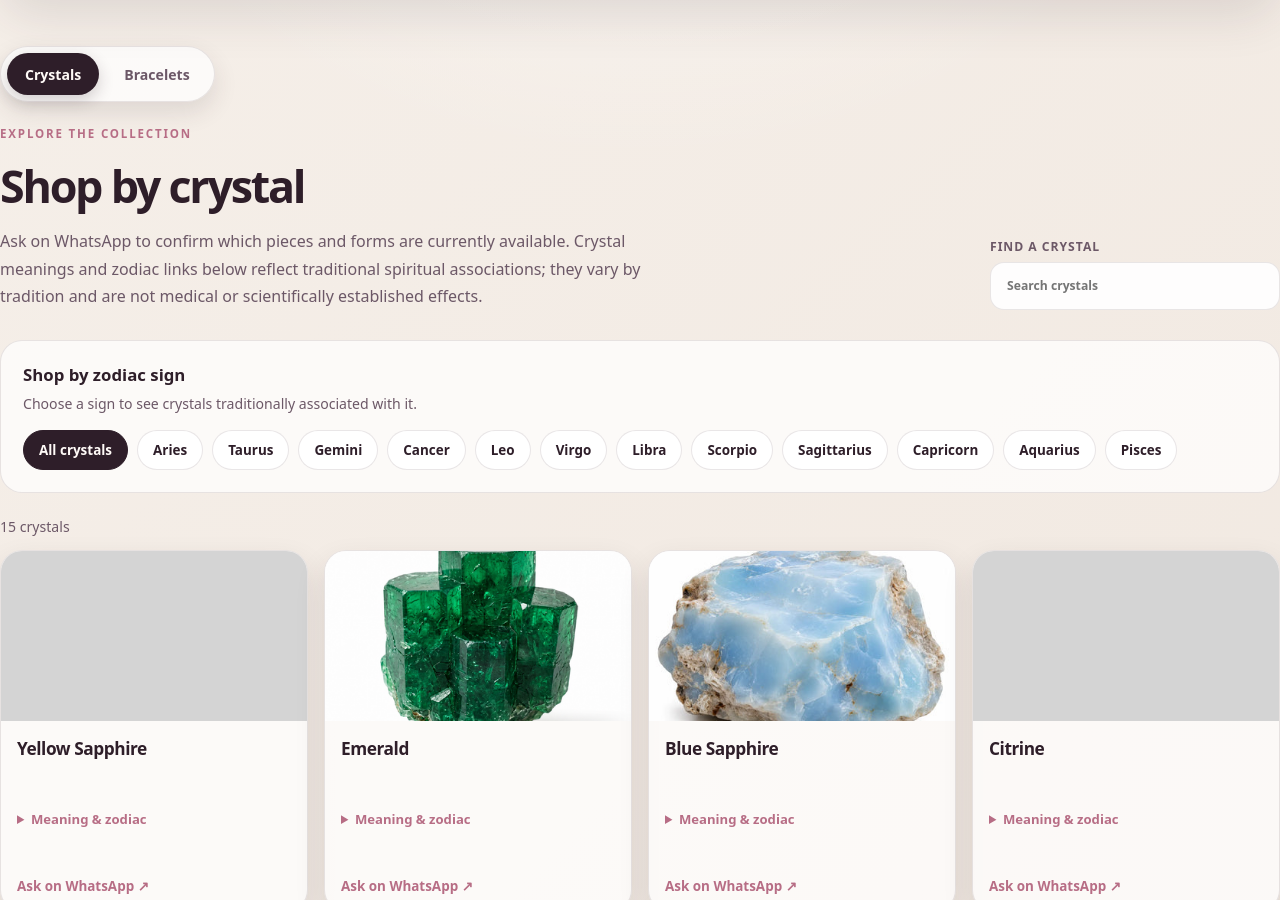
Test: filters crystals by zodiac sign and includes crystals linked to all signs
Later steps or results of the test are not shown.
(page scrolled)
Check: the button "Aries" is shown, box [137,430,203,470]
Check: the button "Taurus" is shown, box [212,430,289,470]
Click the button "Pisces" at (1141, 450), box [1105,430,1178,470]
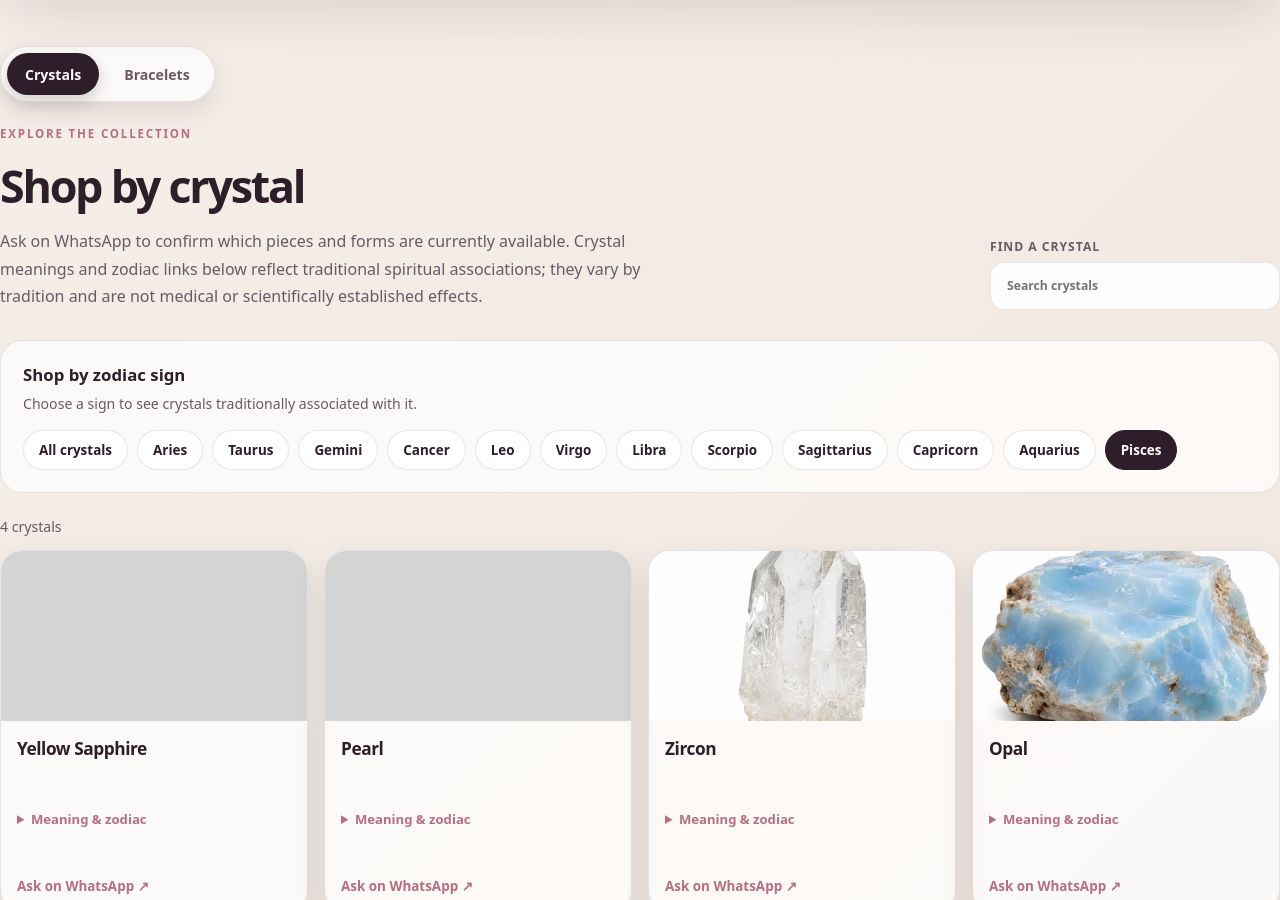
Check: the heading "Pearl" is shown, box [341,737,383,760]
Check: the heading "Opal" is shown, box [989,737,1028,760]
Check: the heading "Blue Sapphire" is gone
